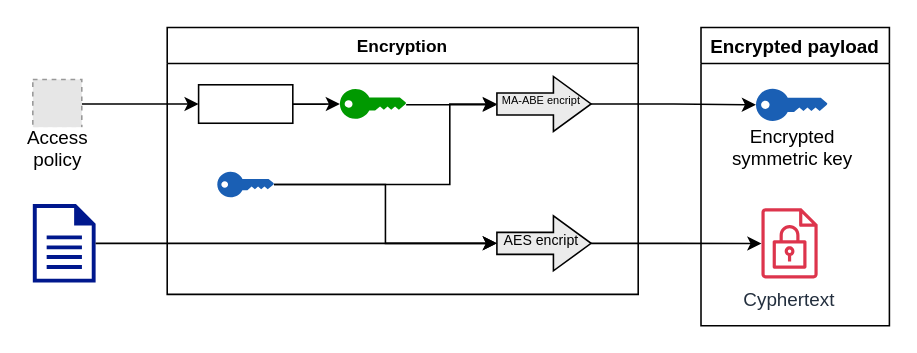
Image size: 917x353. Some labels were removed from this diagram. Grey dashed boxes stand in for pictures. Each missing label, with the box of its shape:
Authority public keys: (339, 88, 405, 118)
F etch authority public keys: (197, 83, 293, 123)
Plaintext: (32, 203, 95, 282)
Randomly generated symmetric key: (217, 171, 273, 196)
